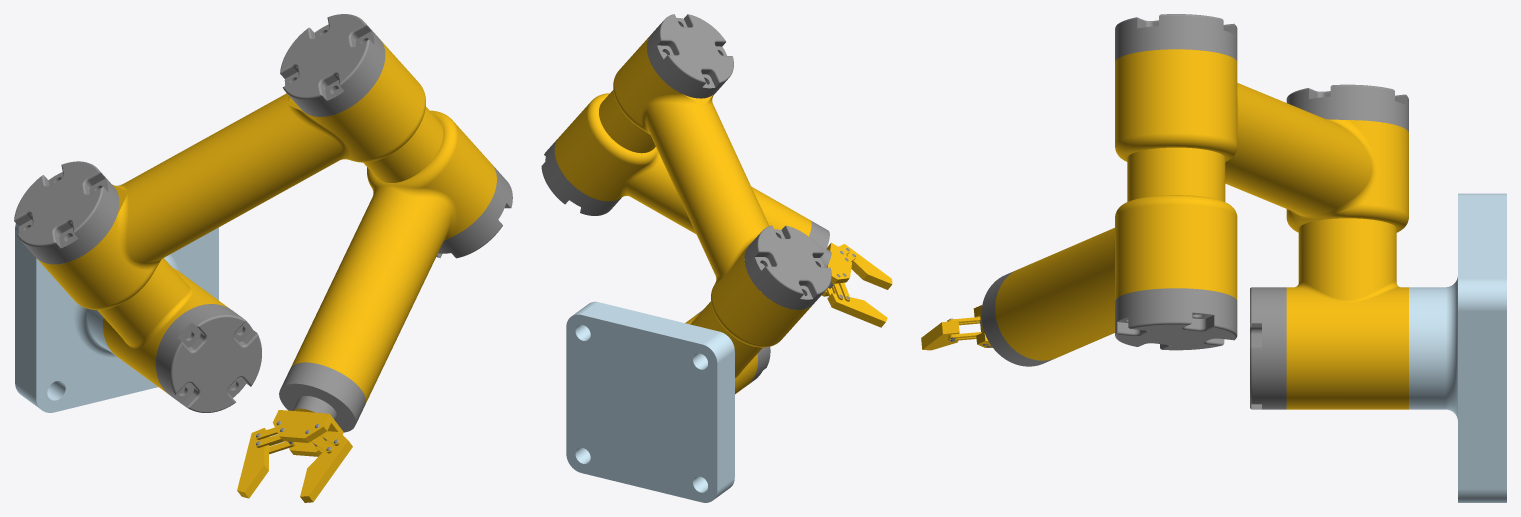
File: robot.gltf
3 views of the same model, side by side, from view 1: azimuth 30°, elevation 25°; view 2: azimuth 150°, elevation 25°; view 3: azimuth 270°, elevation 25° (orthographic). The views are drawn at different scales.
Visible parts, largest first — view 1: Part 1 (×9); view 2: Part 1 (×8); view 3: Part 1 (×9).
Boxes of the visible parts, left/top/right/bottom form: Part 1 (×9): left=14, top=14, right=512, bottom=502; Part 1 (×8): left=541, top=14, right=892, bottom=502; Part 1 (×9): left=921, top=14, right=1506, bottom=502.
Size of the model in its own units: 0.4464 by 0.4579 by 0.4786.
